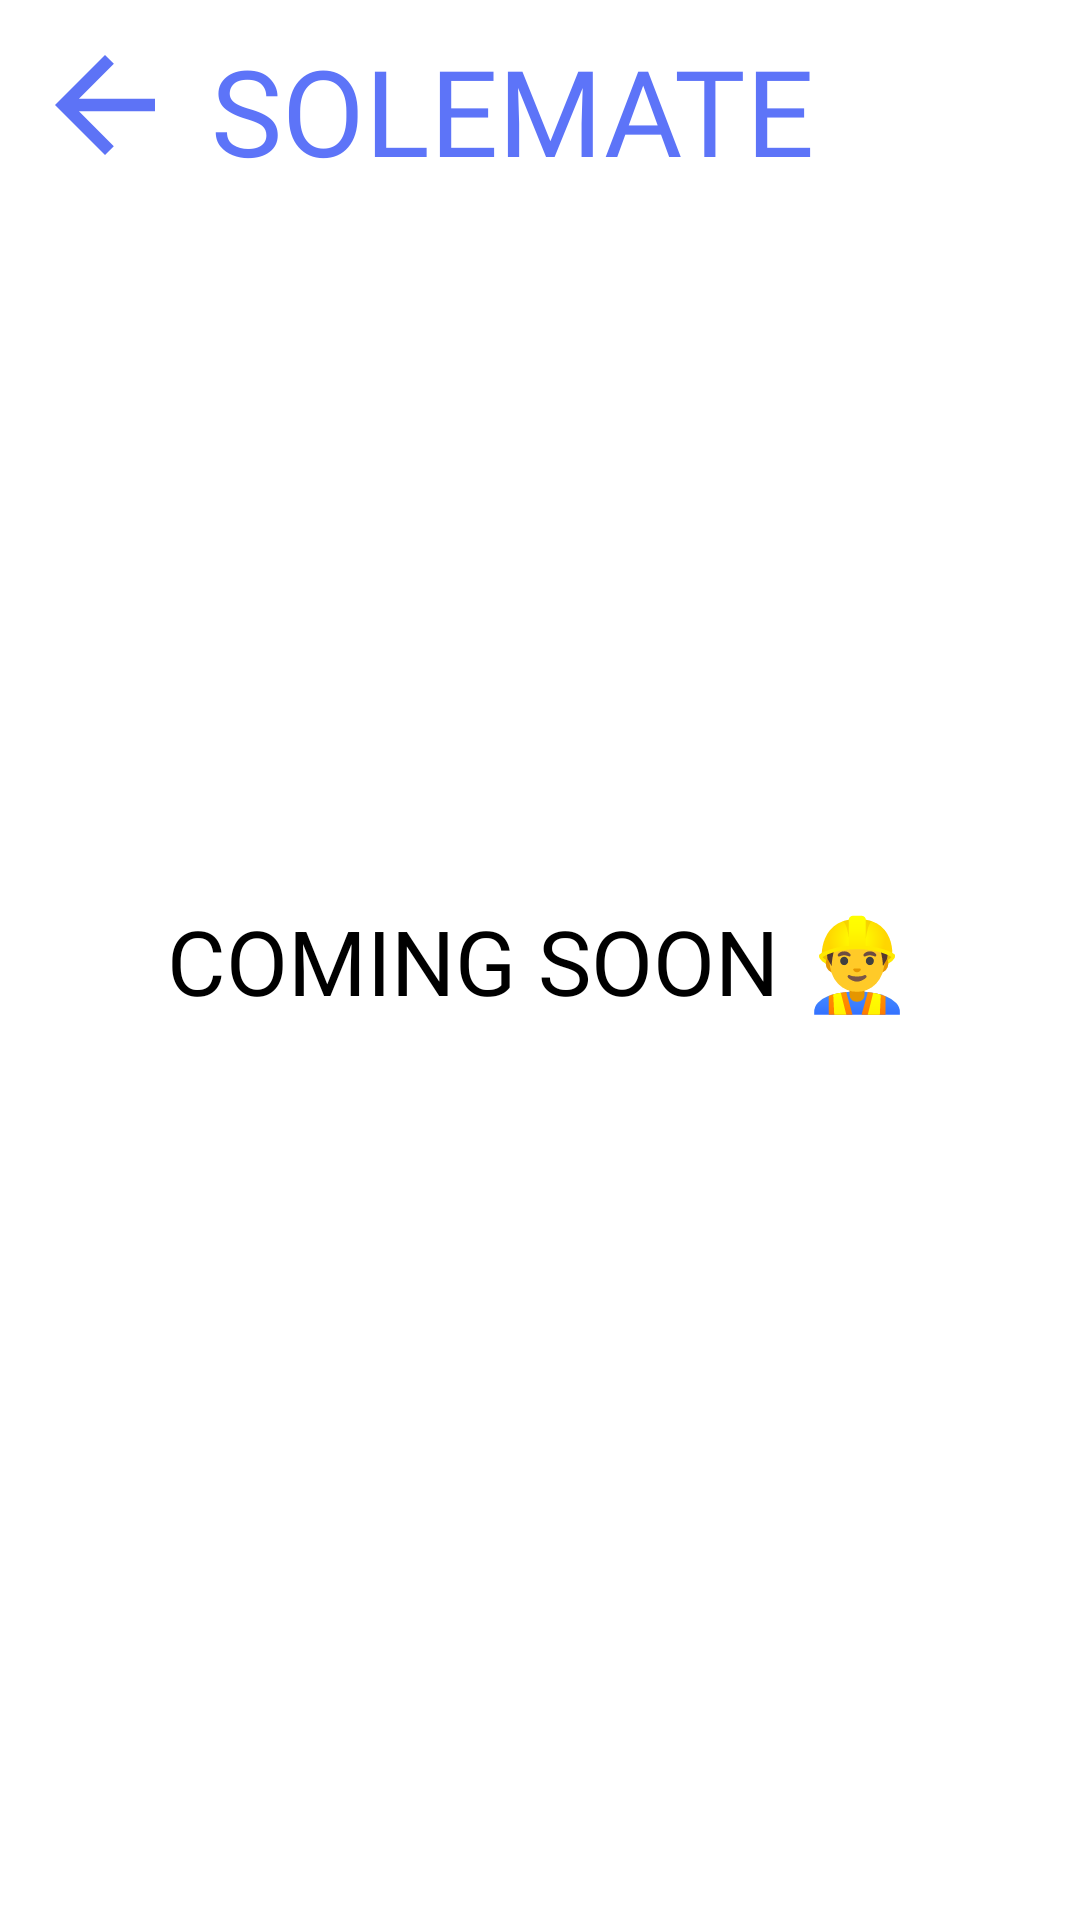

Named icons in this screenshot (1080px x 1920px) and their centers, point (x, y):
back: point (105, 105)
